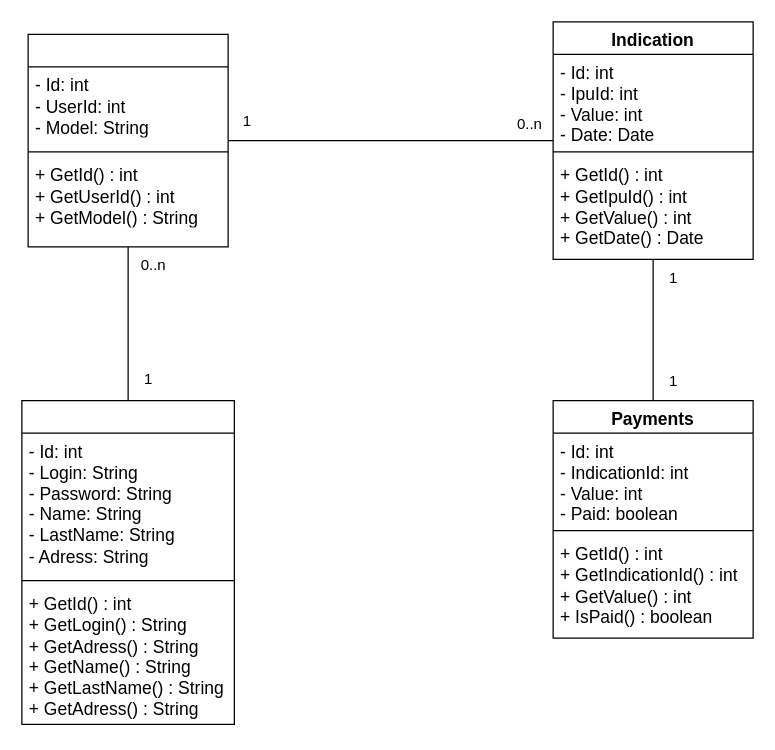
This 775x750 diagram has some shape labels left out. Here are the shapes that lost their labels. From the top down, the box of each, then its label:
(27, 33, 228, 247): IPU
(21, 399, 234, 724): User
